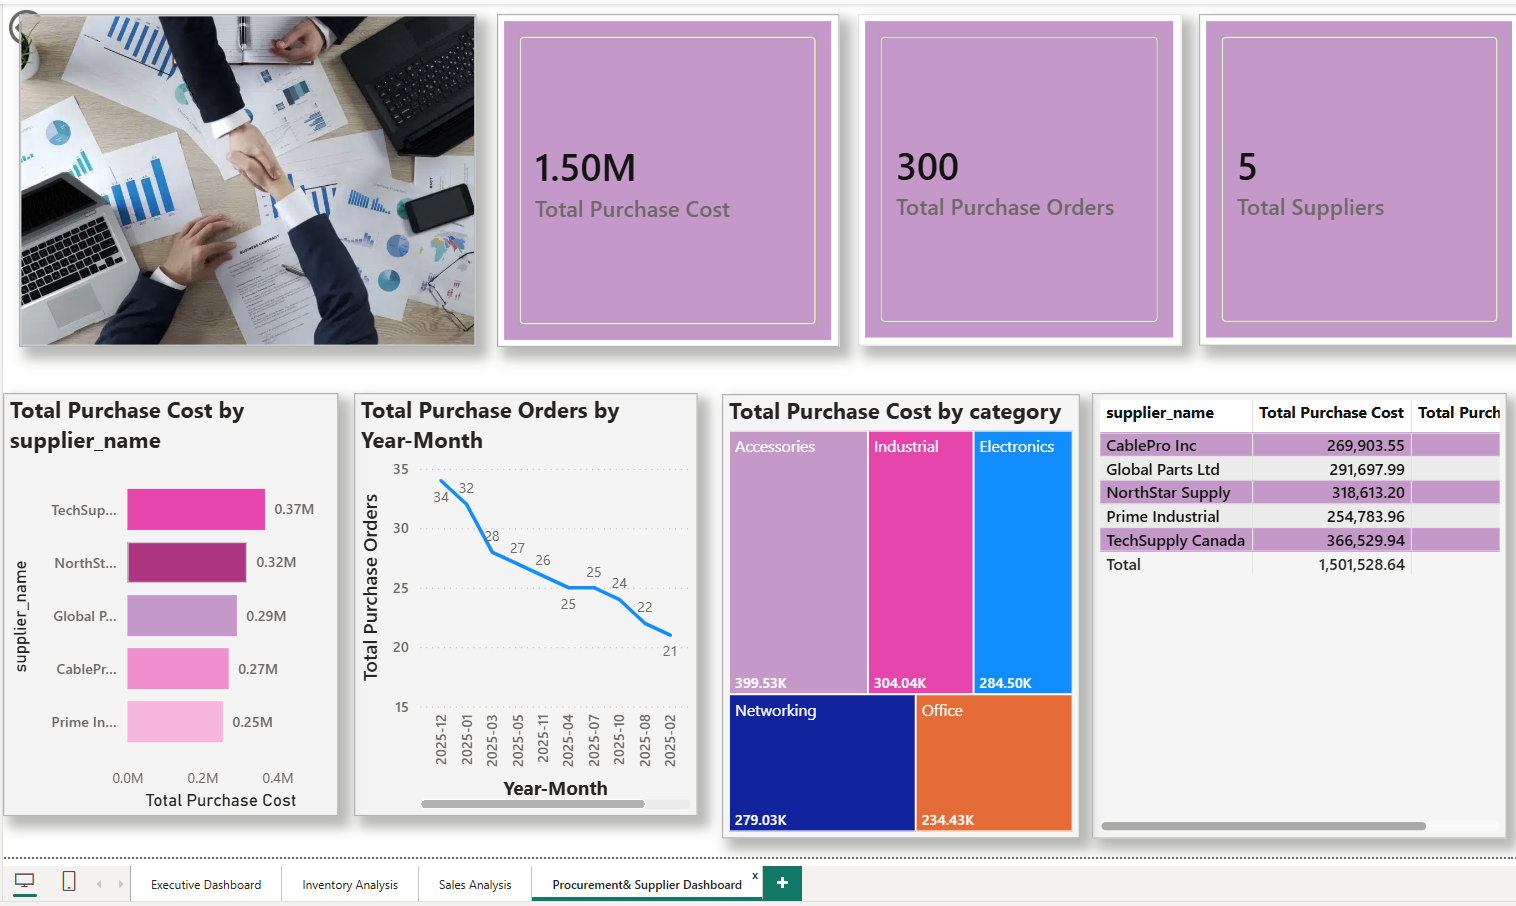

Layout of this report page (visuals, bound fields, positions):
{"tool":"powerbi","page":{"name":"Procurement& Supplier Dashboard","canvas":[1280,720],"ordinal":3},"visuals":[{"type":"cardVisual","fields":{"Data":["Date.Total Purchase Orders"]},"box":[721.6,8.7,272.6,279.9],"z":1},{"type":"cardVisual","fields":{"Data":["Date.Total Suppliers"]},"box":[1008.8,8.7,271.2,279.9],"z":2},{"type":"cardVisual","fields":{"Data":["Date.Total Purchase Cost"]},"box":[416.9,8.7,288.7,281.4],"z":3},{"type":"barChart","fields":{"Y":["Date.Total Purchase Cost"],"Category":["purchase_orders.supplier_name"]},"box":[0,328,282.8,357.2],"z":4},{"type":"lineChart","fields":{"Category":["Date.Year-Month"],"Y":["Date.Total Purchase Orders"]},"box":[295.9,328,290.1,357.2],"z":5},{"type":"treemap","fields":{"Values":["Date.Total Purchase Cost"],"Group":["products.category"]},"box":[606.5,329.5,301.8,374.7],"z":6},{"type":"tableEx","fields":{"Values":["purchase_orders.supplier_name","Date.Total Purchase Cost","Date.Total Purchase Orders"]},"box":[918.5,328,349.9,376.1],"z":7},{"type":"actionButton","box":[0,0,100,40],"z":8},{"type":"image","box":[13.1,8.7,386.3,281.4],"z":10}]}

Visuals, with their boxes on the page's 1280x720 design canvas (x1, y1, x2, y2). These are canvas units, not pixel positions in the 1516x906 screenshot, which may show the page scaled, cropped or inside an application window:
cardVisual - Date.Total Purchase Orders: {"x1": 722, "y1": 9, "x2": 994, "y2": 289}
cardVisual - Date.Total Suppliers: {"x1": 1009, "y1": 9, "x2": 1280, "y2": 289}
cardVisual - Date.Total Purchase Cost: {"x1": 417, "y1": 9, "x2": 706, "y2": 290}
barChart - Date.Total Purchase Cost x purchase_orders.supplier_name: {"x1": 0, "y1": 328, "x2": 283, "y2": 685}
lineChart - Date.Year-Month x Date.Total Purchase Orders: {"x1": 296, "y1": 328, "x2": 586, "y2": 685}
treemap - Date.Total Purchase Cost x products.category: {"x1": 606, "y1": 330, "x2": 908, "y2": 704}
tableEx - purchase_orders.supplier_name x Date.Total Purchase Cost: {"x1": 918, "y1": 328, "x2": 1268, "y2": 704}
actionButton: {"x1": 0, "y1": 0, "x2": 100, "y2": 40}
image: {"x1": 13, "y1": 9, "x2": 399, "y2": 290}
